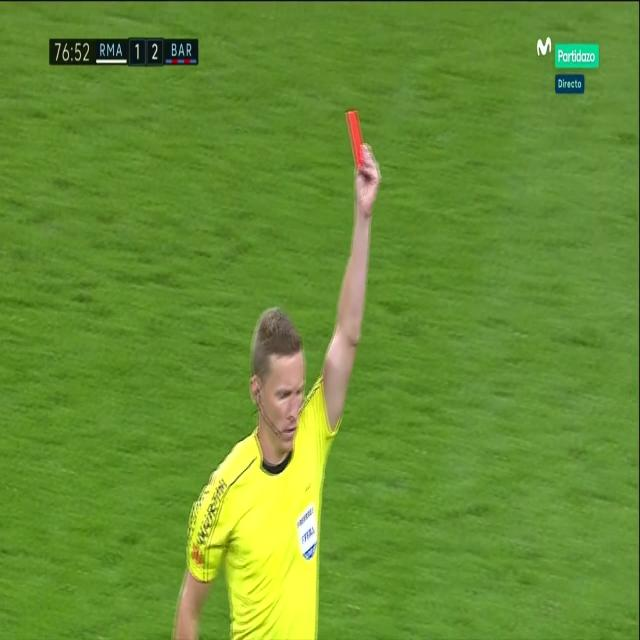Referee: (169, 104, 377, 638)
